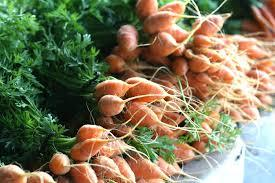Organic: (1, 2, 275, 183)
